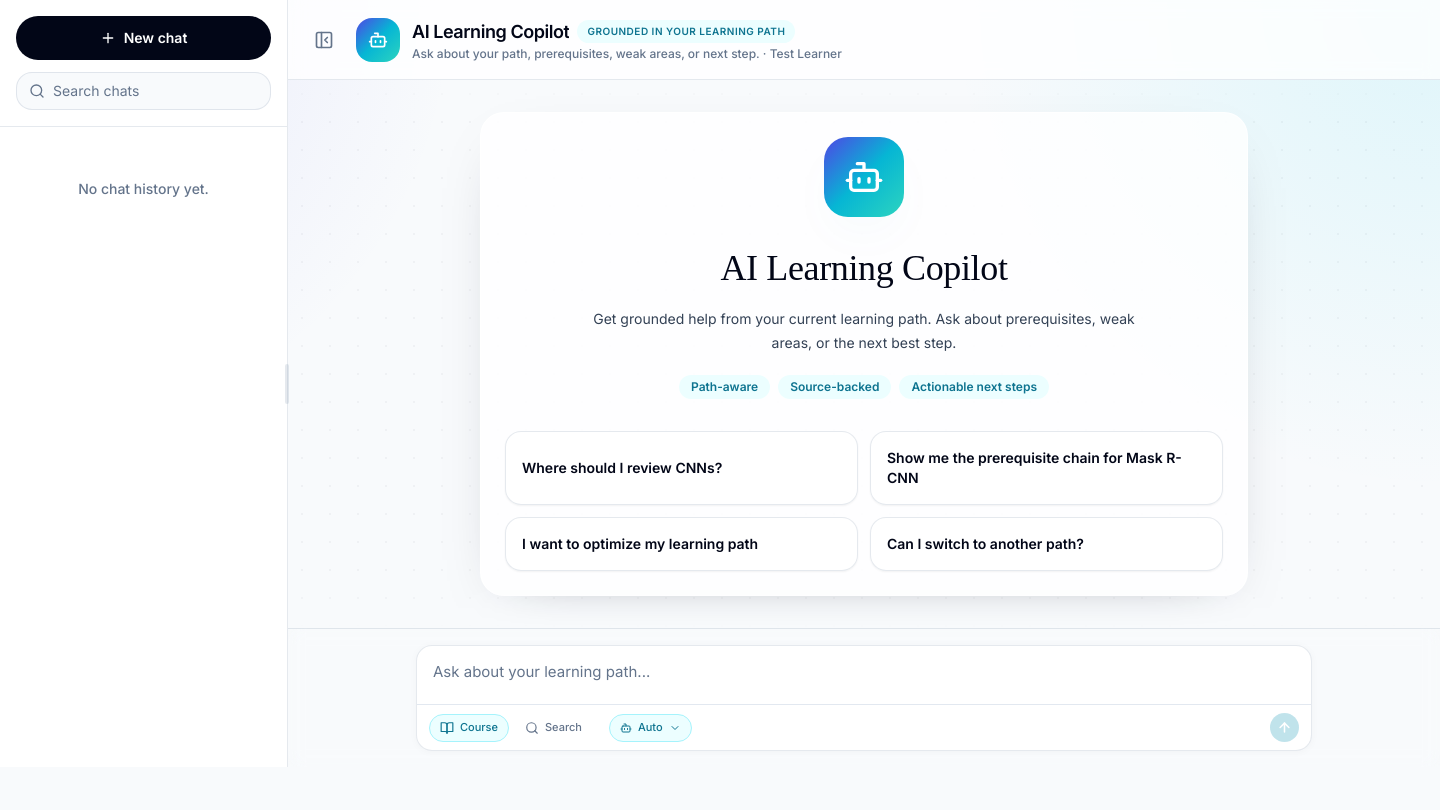
Test: agent page › labels client-side agent timeouts separately from network failures
Type "có thể tìm RCNN không" into the text box with placeholder "Ask about your learning path..." at (864, 672), box [417,646,1311,698]
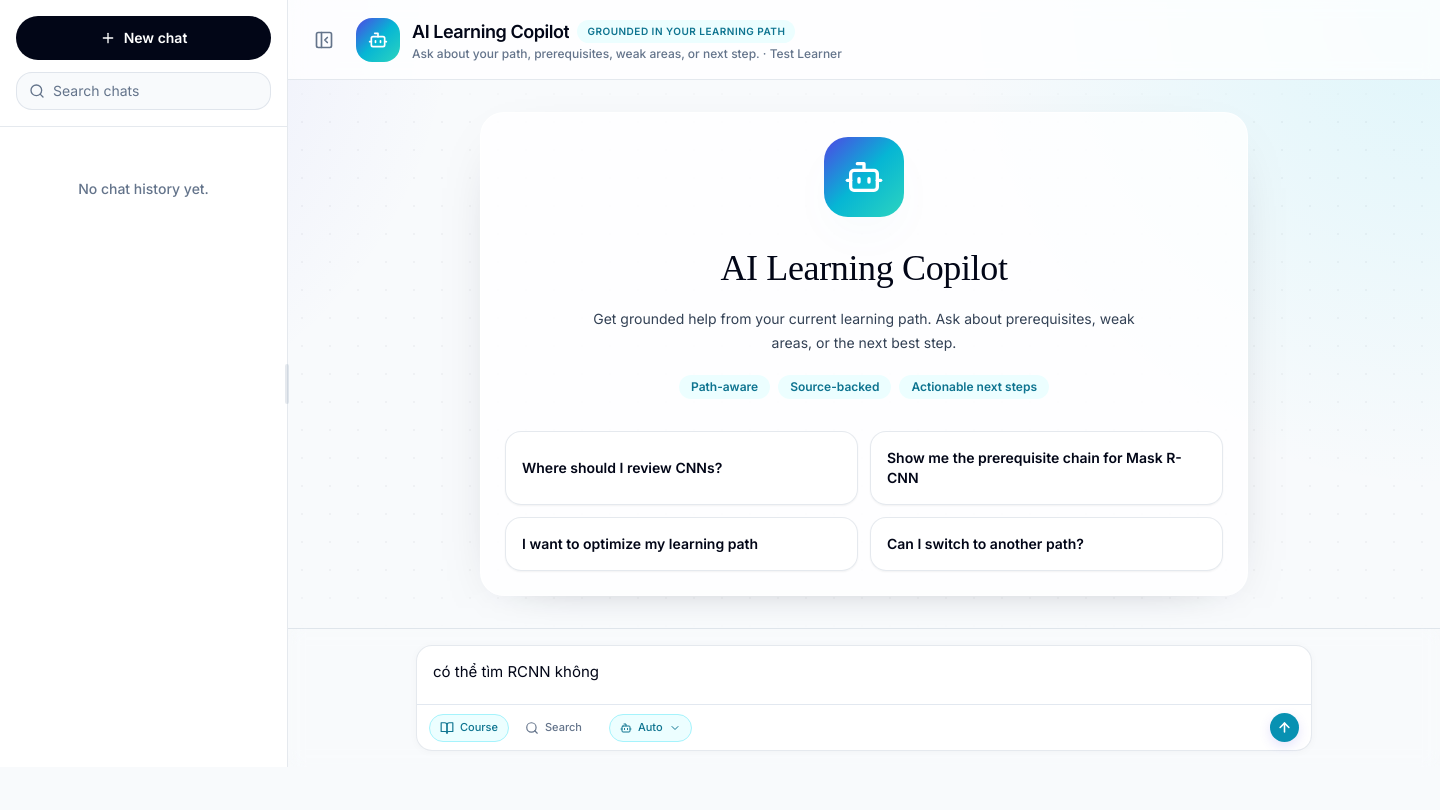
Click the button named "send message" at (1284, 728), box [1270,713,1299,742]
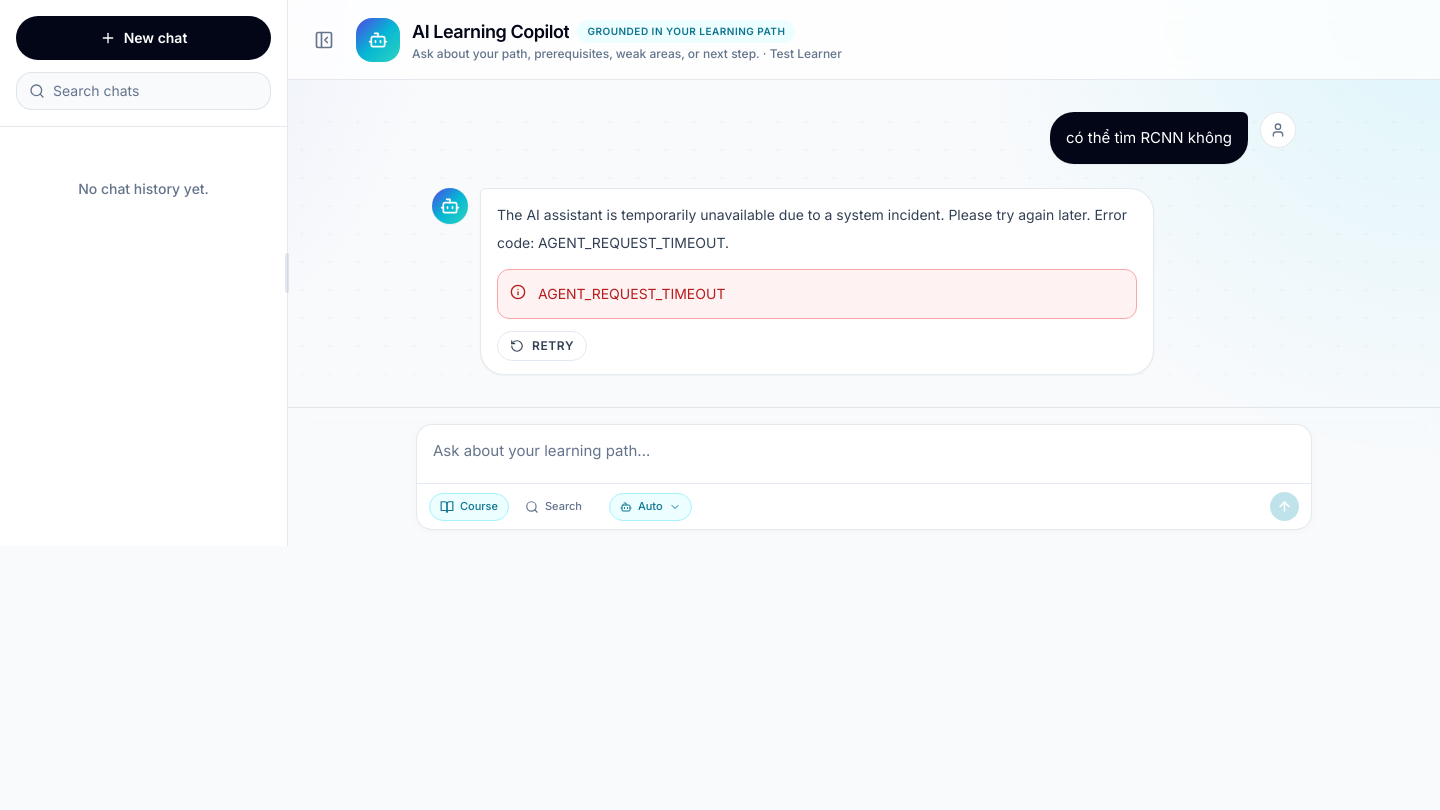
Check: the text "AGENT_REQUEST_TIMEOUT" is shown 2 times, box [497,201,1137,257]; [538,282,725,306]
